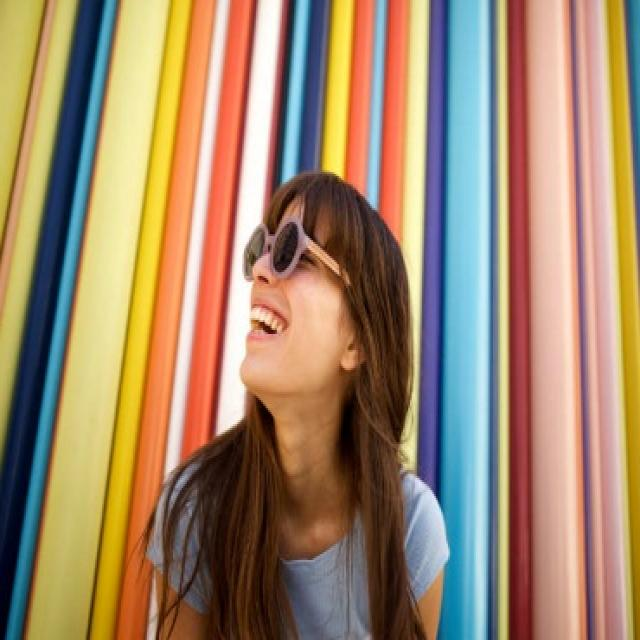adult: (145, 170, 444, 640)
